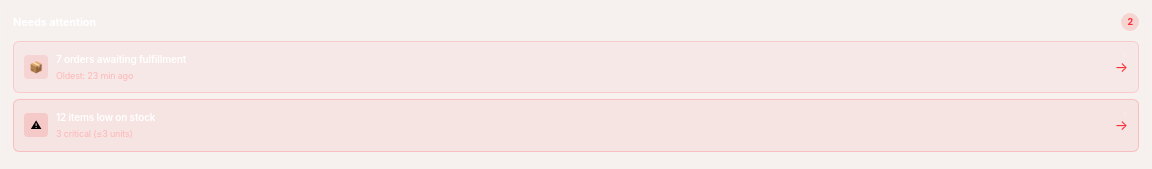
Test case: NeedsAttention › clicking dismiss button hides the alert + persists in sessionStorage
This screenshot has width=1152, height=169.
Click the button named "dismiss": (1125, 54) [1115,44,1135,64]
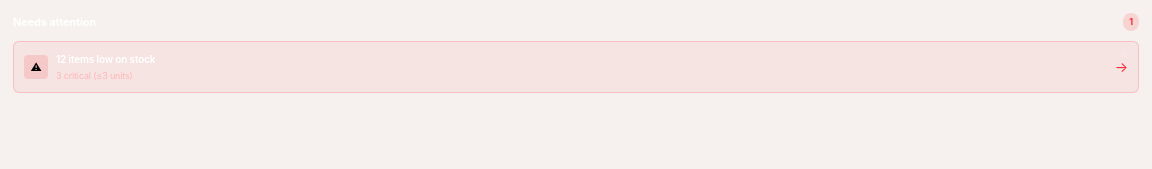
Now the link "7 orders awaiting fulfillment" is gone
